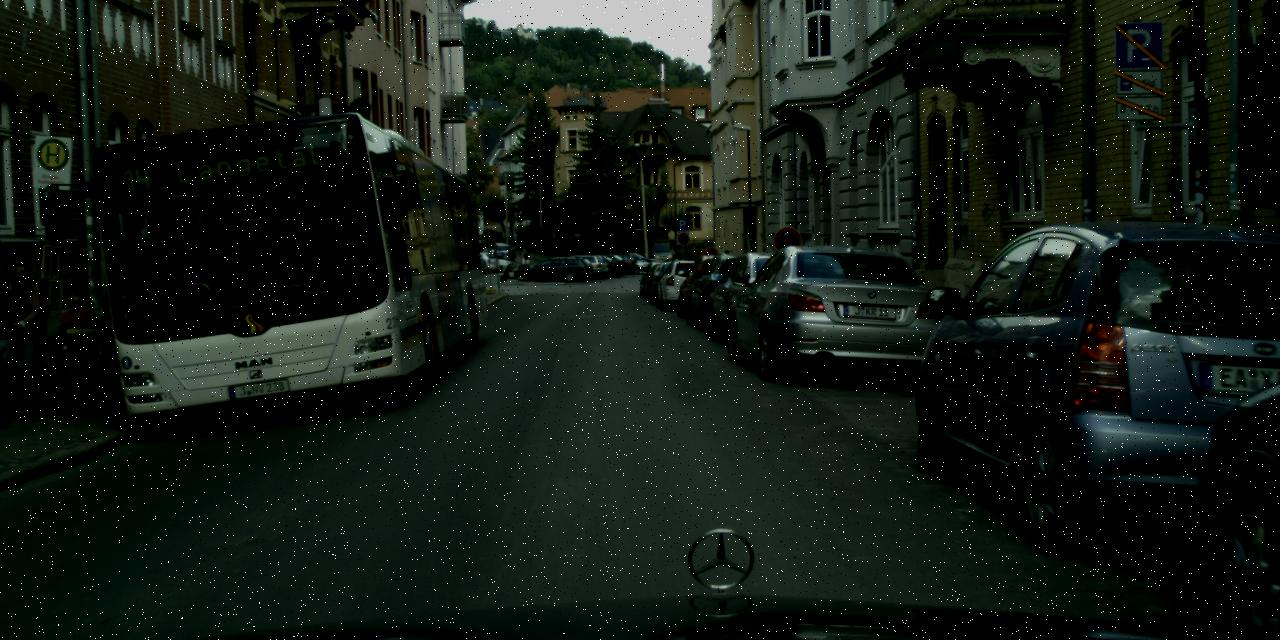ped: (0, 250, 48, 420), (56, 283, 108, 413), (90, 296, 132, 398), (520, 248, 528, 270), (508, 248, 516, 268)
